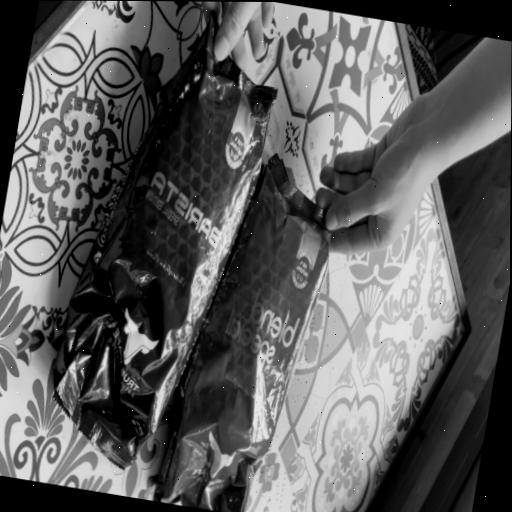cafe_hat: (53, 22, 276, 468)
cafe_xay: (153, 155, 328, 512)
